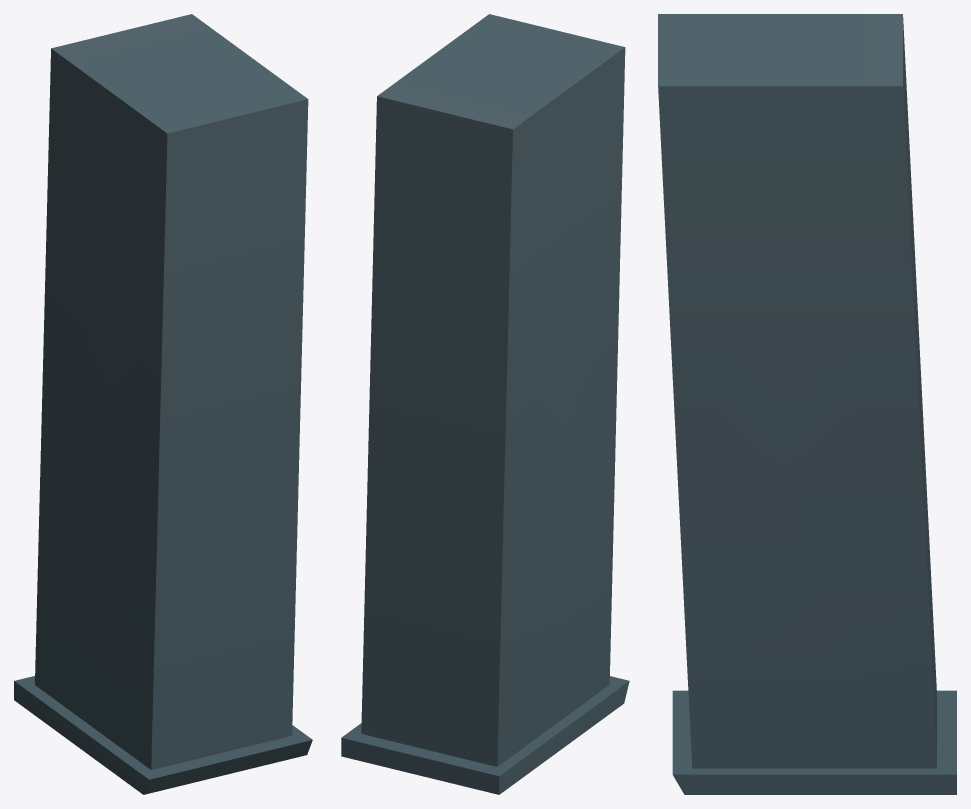
The model's file is Magazine .fbx.
The picture shows the model from 3 angles, left to right: view 1: azimuth 30°, elevation 25°; view 2: azimuth 150°, elevation 25°; view 3: azimuth 270°, elevation 25°; orthographic projection. The views are drawn at different scales.
Visible parts, largest first — view 1: Magazine; view 2: Magazine; view 3: Magazine.
Part boxes in pixels (x1,y1,x2,y2): Magazine: (14, 14, 312, 794); Magazine: (341, 14, 629, 794); Magazine: (658, 14, 956, 794).
Bounding box in the file's own units: 0.839 × 3.27 × 1.26.
1 material, 1 textured.
